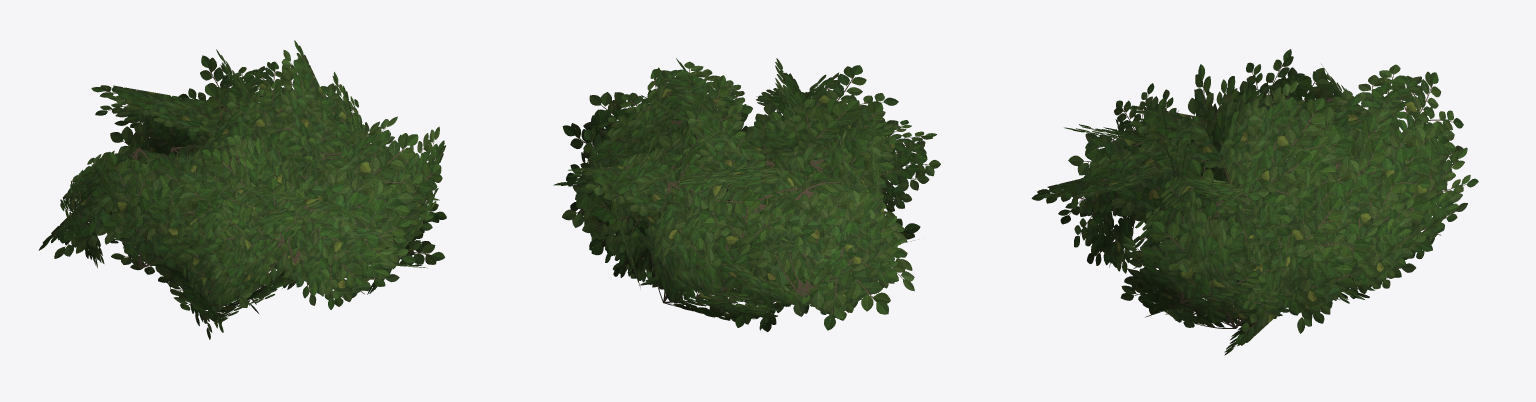
The model's file is bush_b.glb.
3 renders of one model, left to right at view 1: azimuth 30°, elevation 25°; view 2: azimuth 150°, elevation 25°; view 3: azimuth 270°, elevation 25°, orthographic. The views are drawn at different scales.
Parts seen in each view (by area): view 1: bush_b; view 2: bush_b; view 3: bush_b.
Part boxes in pixels (box(x1,y1,x2,y2)): bush_b: box(38, 40, 446, 339); bush_b: box(553, 58, 940, 331); bush_b: box(1031, 49, 1478, 355).
Size of the model in its own units: 1.22 by 0.83 by 1.25.
Materials: 1 (1 with a texture image).
